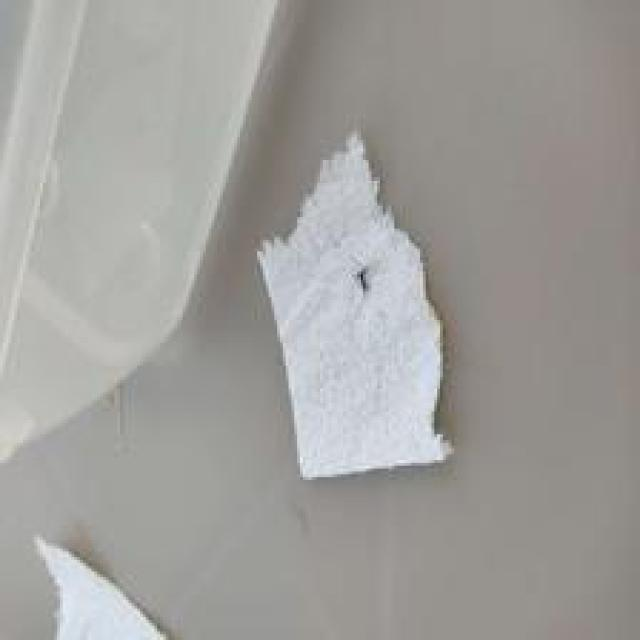Aedes albopictus: (253, 129, 456, 480)
